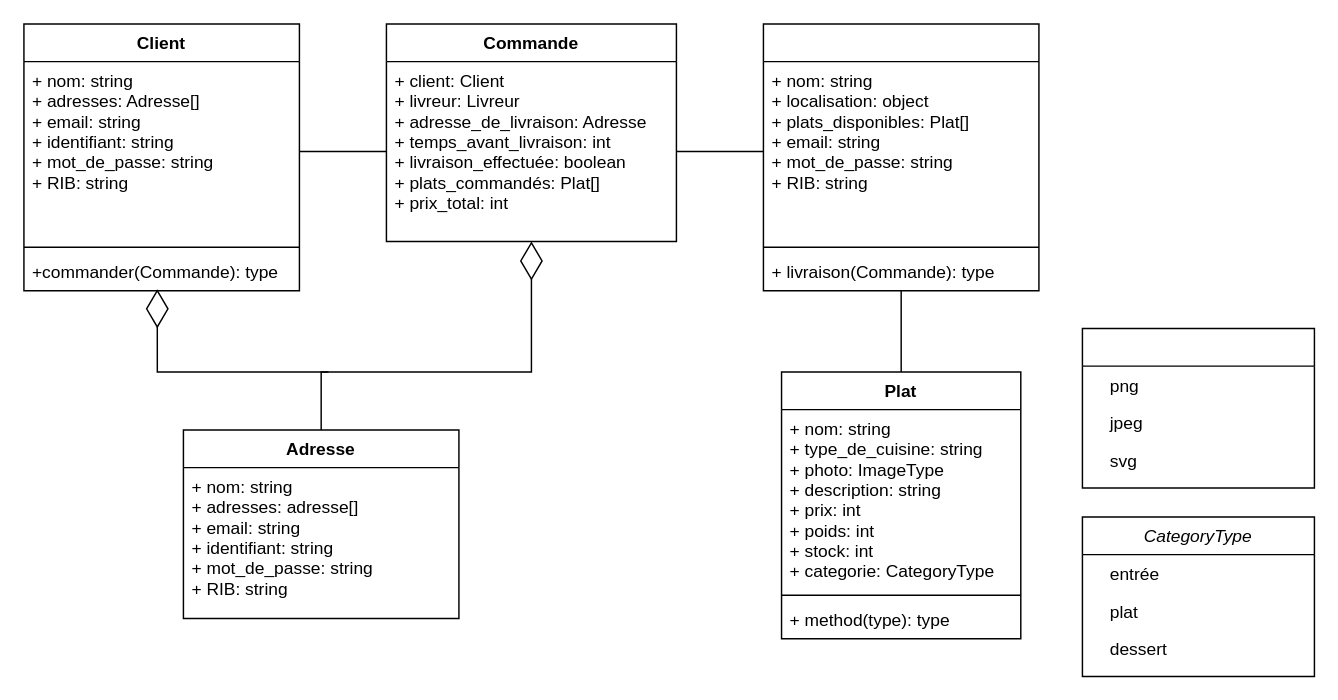
This 1338x700 diagram has some shape labels left out. Each missing label, with the box of its shape:
ImageType: (1081, 327, 1314, 488)
Livreur: (762, 22, 1039, 291)
